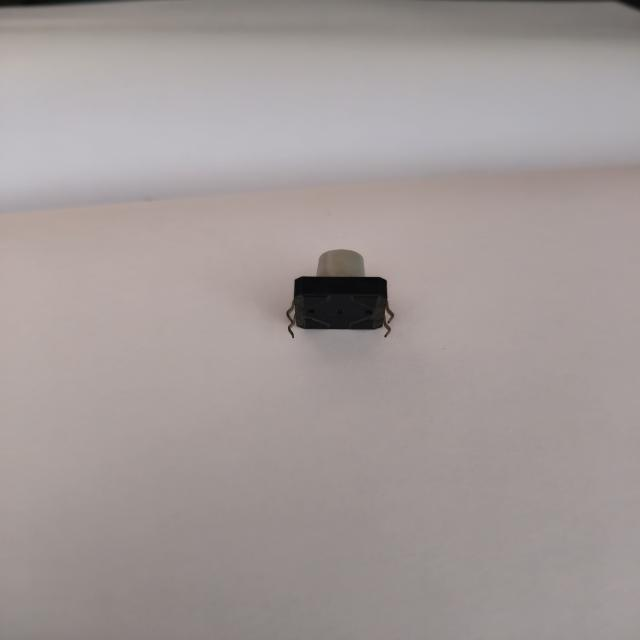switch: (279, 242, 408, 351)
